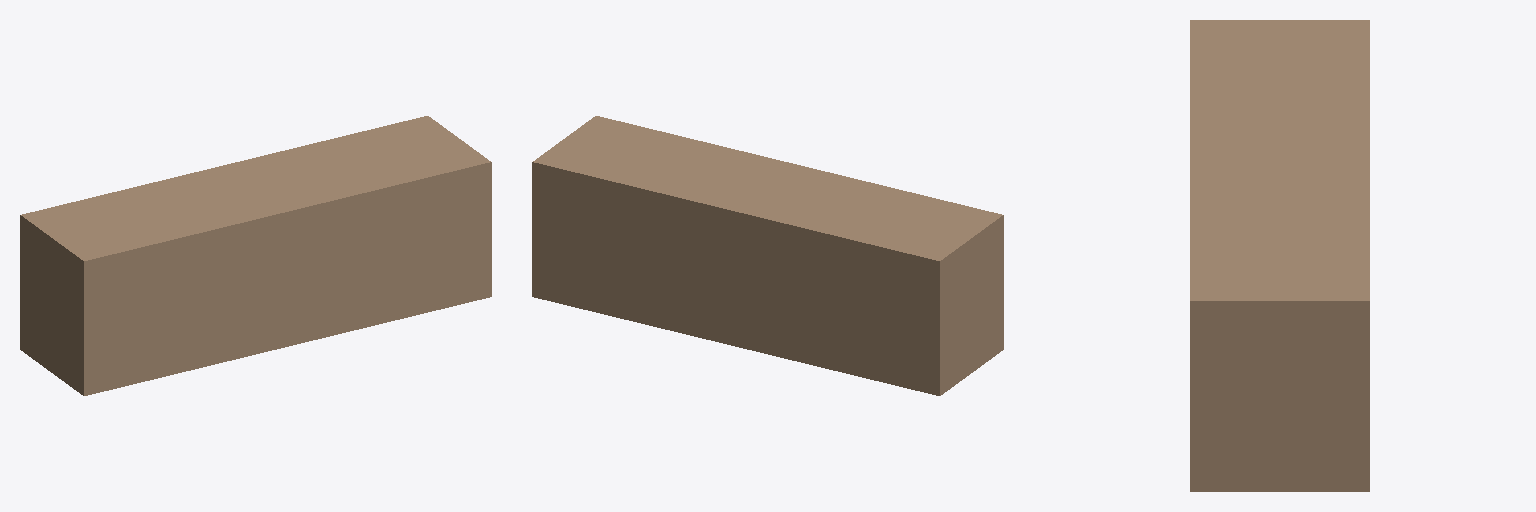
URDF robot description (realsense_d435):
<?xml version="1.0"?>
<robot name="realsense_d435">
    <link name="realsense_d435_base_link"/>

    <link name="realsense_d435_bracket_link">
        <visual name="bracket">
            <origin xyz="0.0375 -0.055  0" rpy="1.5708 3.14159 0"/>
            <geometry>
                <mesh filename="file://@MC_MESH_DIR@/realsense_d435_bracket.stl"/>
            </geometry>
            <material name="grey">
                <color rgba="0.7 0.6 0.5 1"/>
            </material>
        </visual>
        <inertial>
            <origin xyz="0.0375 -0.055  0" rpy="1.5708 3.14159 0"/>
            <mass value="0.0698"/>
            <inertia ixx="5.40350E-05" ixy="8.13203E-08" ixz="1.70226E-06"
                    iyy="5.69809E-05" iyz="1.05961E-06" izz="8.81951E-05"/>
        </inertial>
        <collision>
            <!-- There might be an bug in how convex is being generated -->
            <origin xyz="0.0375 -0.055  0" rpy="1.5708 0 3.14159"/>
            <geometry>
                <mesh filename="file://@MC_MESH_DIR@/realsense_d435_bracket.stl"/>
            </geometry>
        </collision>
    </link>

    <link name = "realsense_d435_camera_link">
        <visual name="camera">
            <origin xyz="0. -0.055 0.02025" rpy="0 0 0"/>
            <geometry>
                <box size="0.09 0.0243 0.0285"/>
            </geometry>
            <material name="grey">
                <color rgba="0.7 0.6 0.5 1"/>
            </material>
        </visual>
        <inertial>
            <origin xyz="0. -0.055 0.02025" rpy="0 0 0"/>
            <mass value="0.0698"/>
            <inertia ixx="5.40350E-05" ixy="8.13203E-08" ixz="1.70226E-06"
                    iyy="5.69809E-05" iyz="1.05961E-06" izz="8.81951E-05"/>
        </inertial>
        <collision>
            <origin xyz="0. -0.055 0.02025" rpy="0 0 0"/>
            <geometry>
                <box size="0.09 0.0243 0.0285"/>
            </geometry>
        </collision>
    </link>

    <link name="realsense_d435_wrench_link"/>

    <joint name="realsense_d435_bracket_joint" type="fixed">
        <parent link="realsense_d435_base_link"/>
        <child link="realsense_d435_bracket_link"/>
        <origin xyz="0.0 0.0 0.0" rpy="0 0 3.14159"/>
    </joint>

    <joint name="realsense_d435_camera_joint" type="fixed">
        <parent link="realsense_d435_bracket_link"/>
        <child link="realsense_d435_camera_link"/>
        <origin xyz="0.0 0.0 0.0" rpy="0 0 0"/>
    </joint>

    <joint name="realsense_d435_wrench_joint" type="fixed">
        <parent link="realsense_d435_bracket_link"/>
        <child link="realsense_d435_wrench_link"/>
        <origin xyz="0.0 0.0 0.006" rpy="0 0 0"/>
    </joint>
</robot>

--- Render facts (derived) ---
3 views of the same robot in one strip: view 1: azimuth 30°, elevation 25°; view 2: azimuth 150°, elevation 25°; view 3: azimuth 270°, elevation 25° (orthographic).
Model realsense_d435 with 4 links and 3 joints (3 fixed), rooted at realsense_d435_base_link, posed every joint at zero.
Links seen in each view (by area): view 1: realsense_d435_camera_link; view 2: realsense_d435_camera_link; view 3: realsense_d435_camera_link.
Link boxes in pixels (bbox=[...]): realsense_d435_camera_link: bbox=[20, 116, 491, 395]; realsense_d435_camera_link: bbox=[532, 116, 1003, 395]; realsense_d435_camera_link: bbox=[1190, 20, 1369, 491].
Bounding box of the posed robot: 0.09 × 0.0243 × 0.0285 m (x, y, z).
Geometry: only primitive shapes (box / cylinder / sphere) drawn; not drawn: 1 mesh visual (reference in a form the renderer does not follow).
